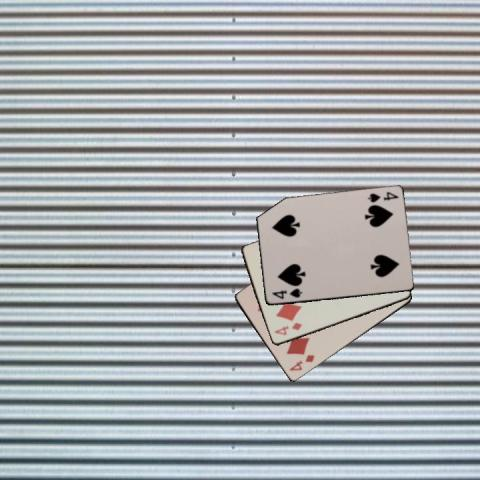4d: (286, 352, 316, 373), (272, 320, 304, 337)
4s: (269, 285, 303, 301), (365, 189, 399, 204)
